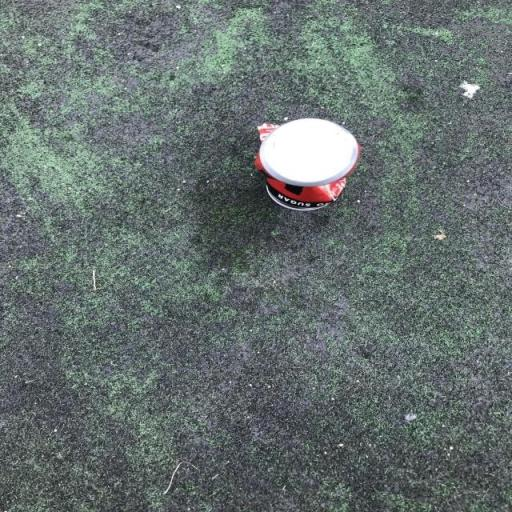metal: (233, 109, 384, 237)
